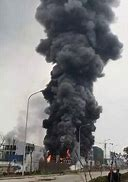smoke: (35, 1, 123, 150)
